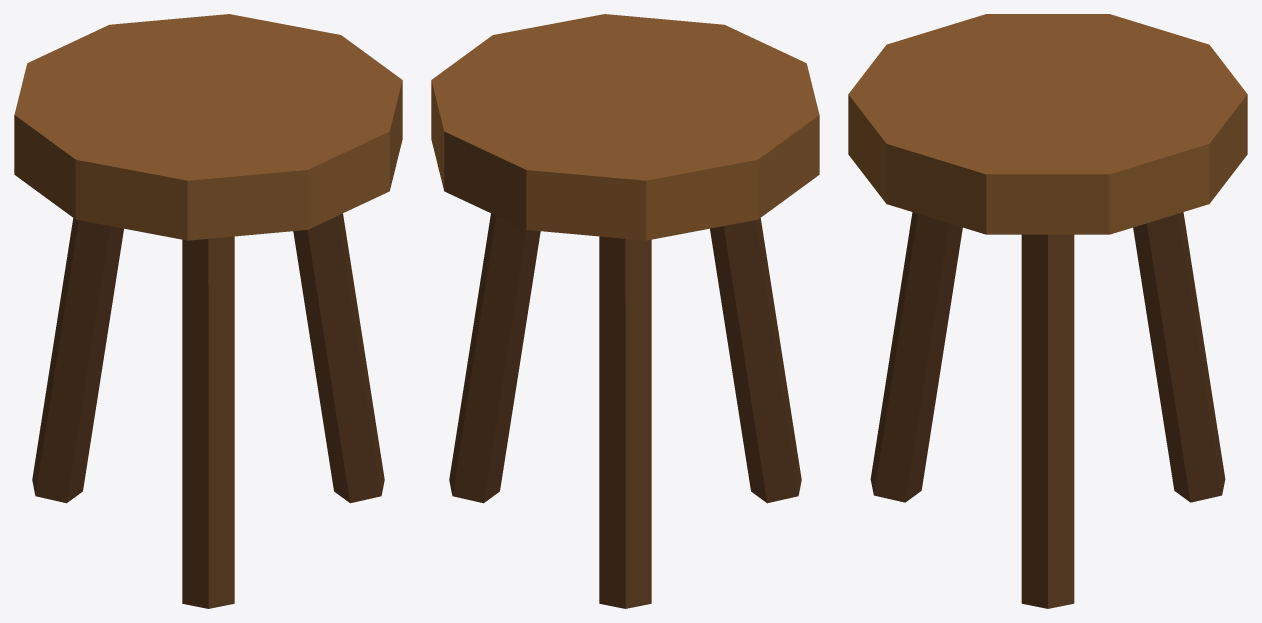
File: PR_Furniture_Tabure.fbx
3 renders of one model, left to right at view 1: azimuth 30°, elevation 25°; view 2: azimuth 150°, elevation 25°; view 3: azimuth 270°, elevation 25°, orthographic.
Parts seen in each view (by area): view 1: PR_Furniture_Tabure; view 2: PR_Furniture_Tabure; view 3: PR_Furniture_Tabure.
Part boxes in pixels (x1,y1,x2,y2): PR_Furniture_Tabure: (14, 14, 402, 608); PR_Furniture_Tabure: (431, 14, 819, 608); PR_Furniture_Tabure: (848, 14, 1247, 608).
Bounding box in the file's own units: 0.3559 × 0.4332 × 0.36.
